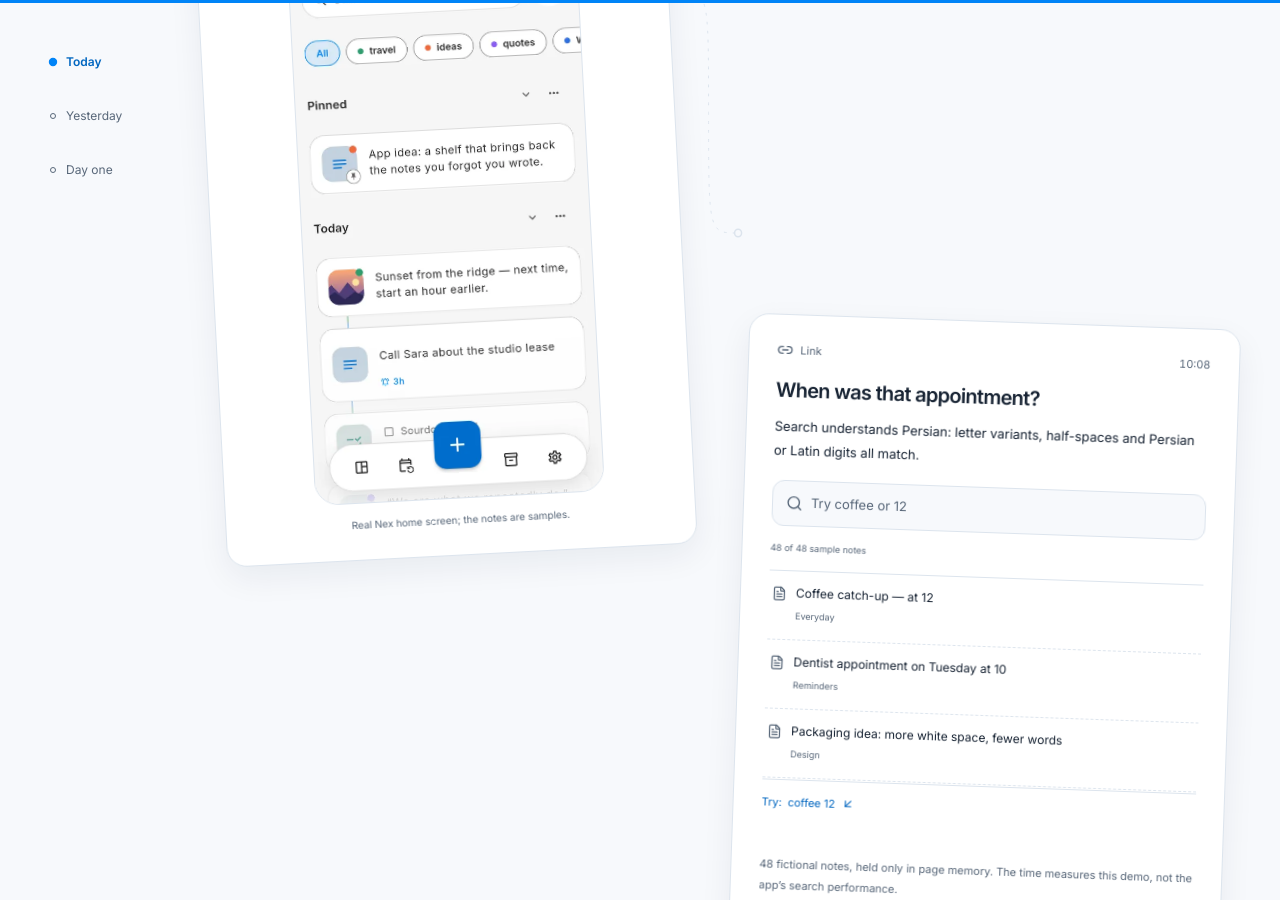
Nex world interactions › uses English coffee search examples and LTR result text in English
(page scrolled)
What coordinates should you click on to do the following:
click the button "Try: coffee 12"
I would click on:
 (808, 803)
Its box is 761,779 -> 855,826.
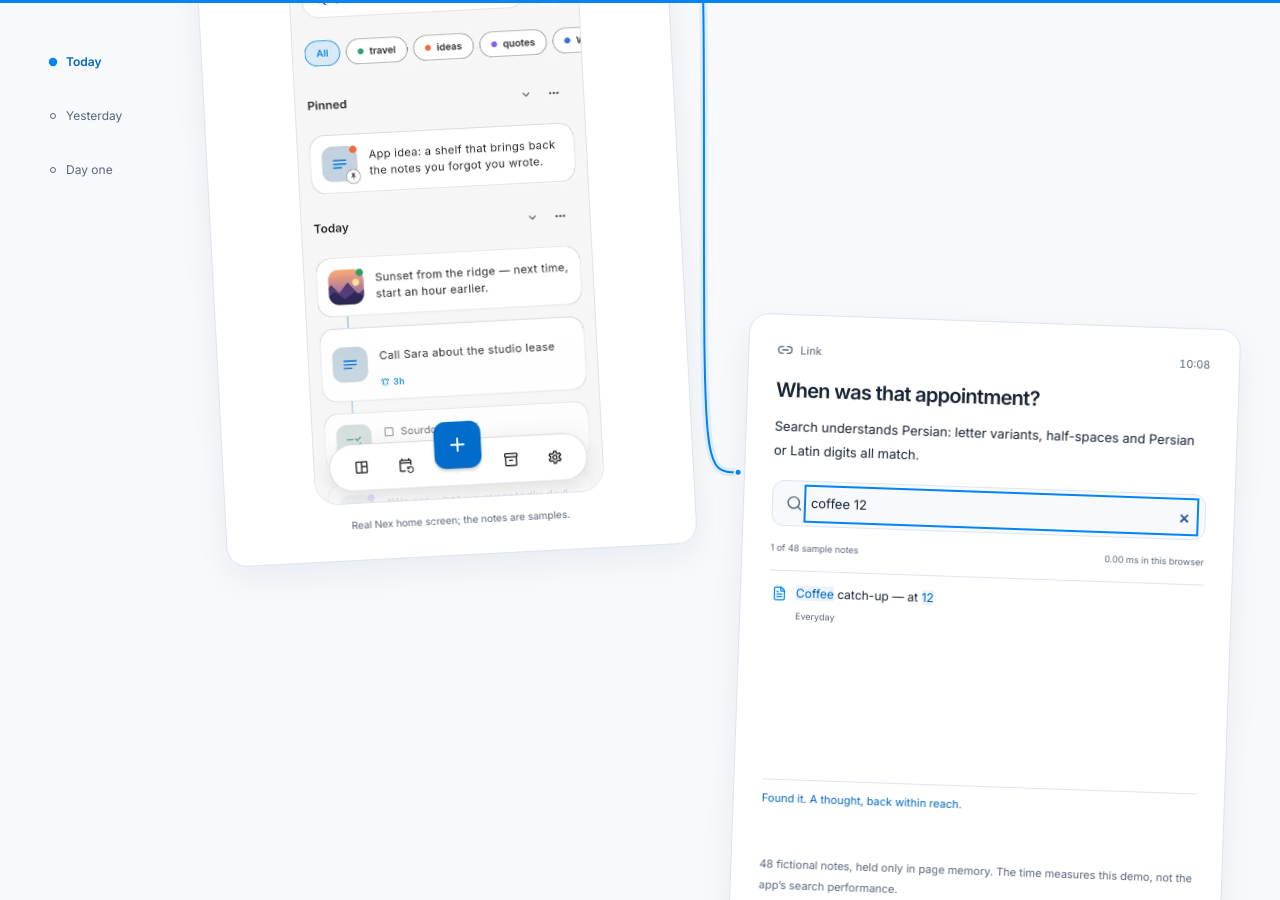
expect the search field holds "coffee 12": met, box 811,492 -> 1192,529
